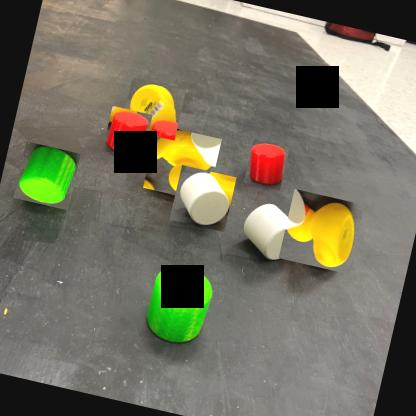duck: (278, 188, 364, 274), (144, 124, 222, 202), (121, 78, 186, 140)
green cylinder: (140, 257, 220, 352), (13, 141, 82, 211)
red cylinder: (102, 106, 152, 160), (244, 138, 290, 190)
white cylinder: (235, 195, 310, 268), (170, 165, 237, 232)
